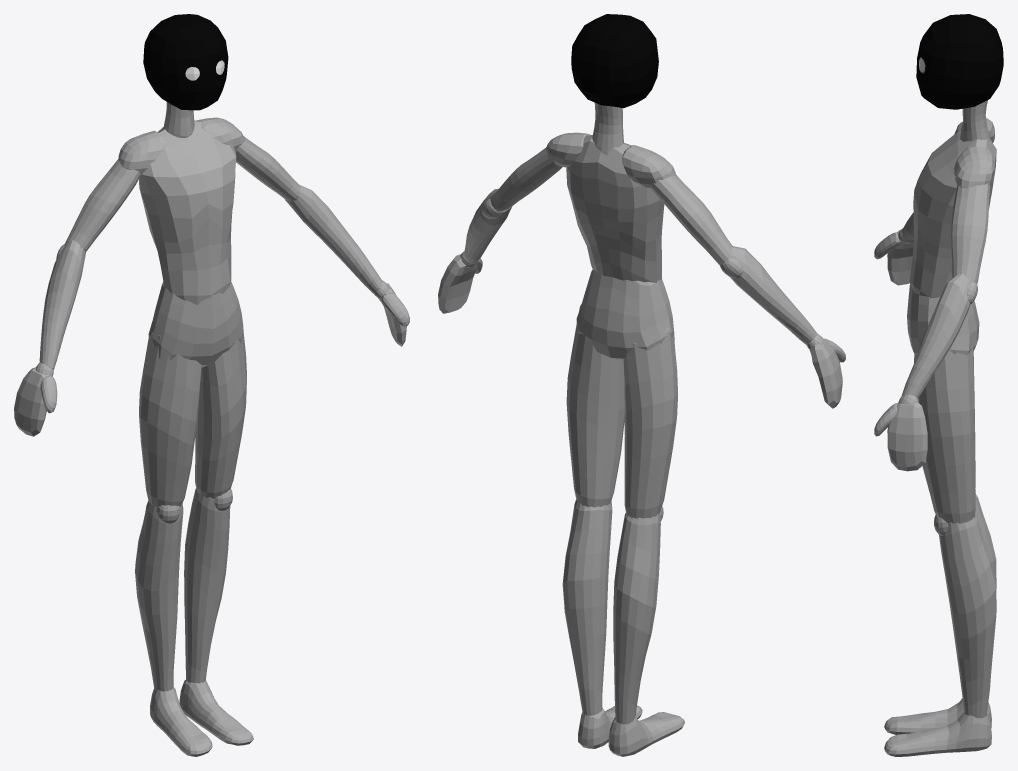
Rendered from set.fbx.
3 views of the same model, side by side, from view 1: azimuth 30°, elevation 25°; view 2: azimuth 150°, elevation 25°; view 3: azimuth 270°, elevation 25° (orthographic). The views are drawn at different scales.
Parts seen in each view (by area): view 1: Group56802; view 2: Group56802; view 3: Group56802.
Boxes of the visible parts, box(x1,y1,x2,y2) form: Group56802: box(14, 14, 409, 756); Group56802: box(438, 14, 845, 756); Group56802: box(874, 14, 1003, 756).
Bounding box in the file's own units: 1.76 × 3.09 × 0.5023.
